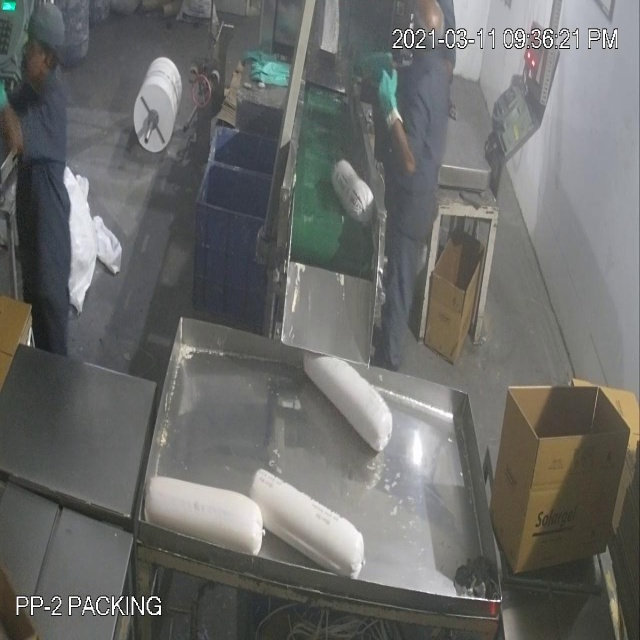Guantes: (377, 55, 405, 132)
